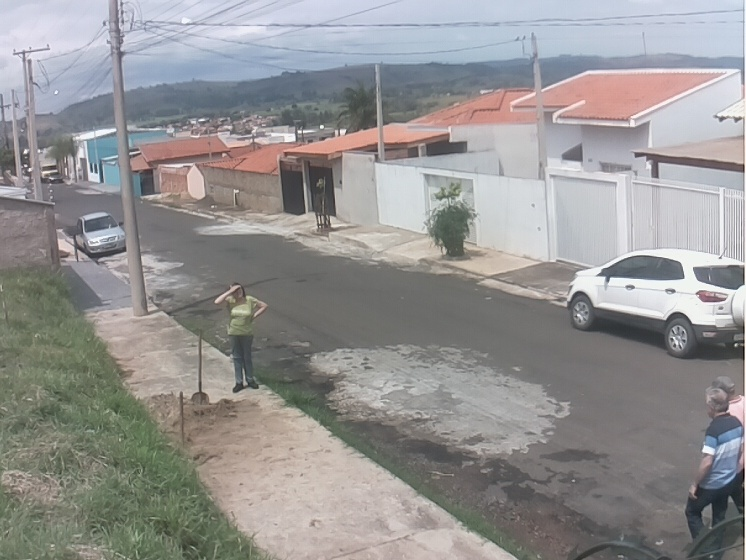person: (684, 386, 746, 541), (213, 282, 271, 394), (710, 374, 746, 419)
